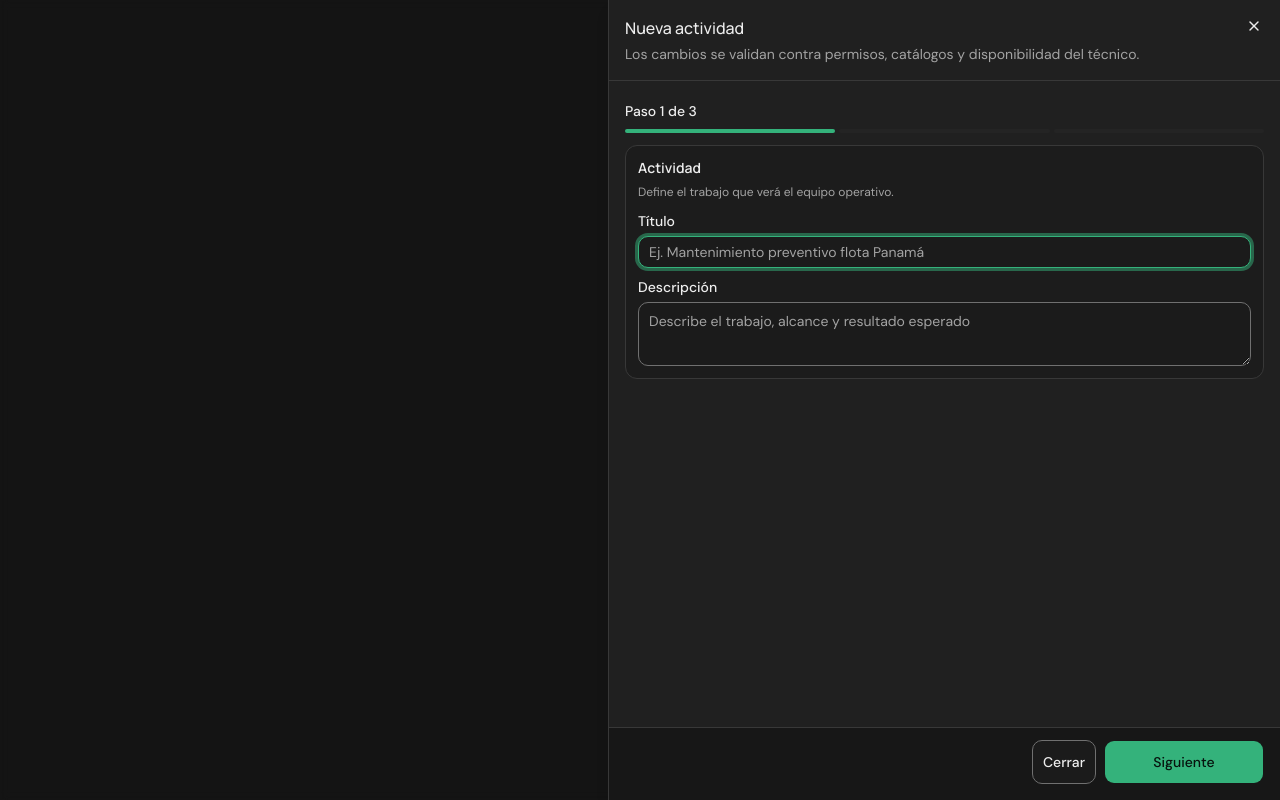
Test: ActivityFormPanel ShadCN controls › keeps the user on the current step and explains missing required fields
Click the button "Siguiente": (1184, 762) [1104, 740, 1264, 784]
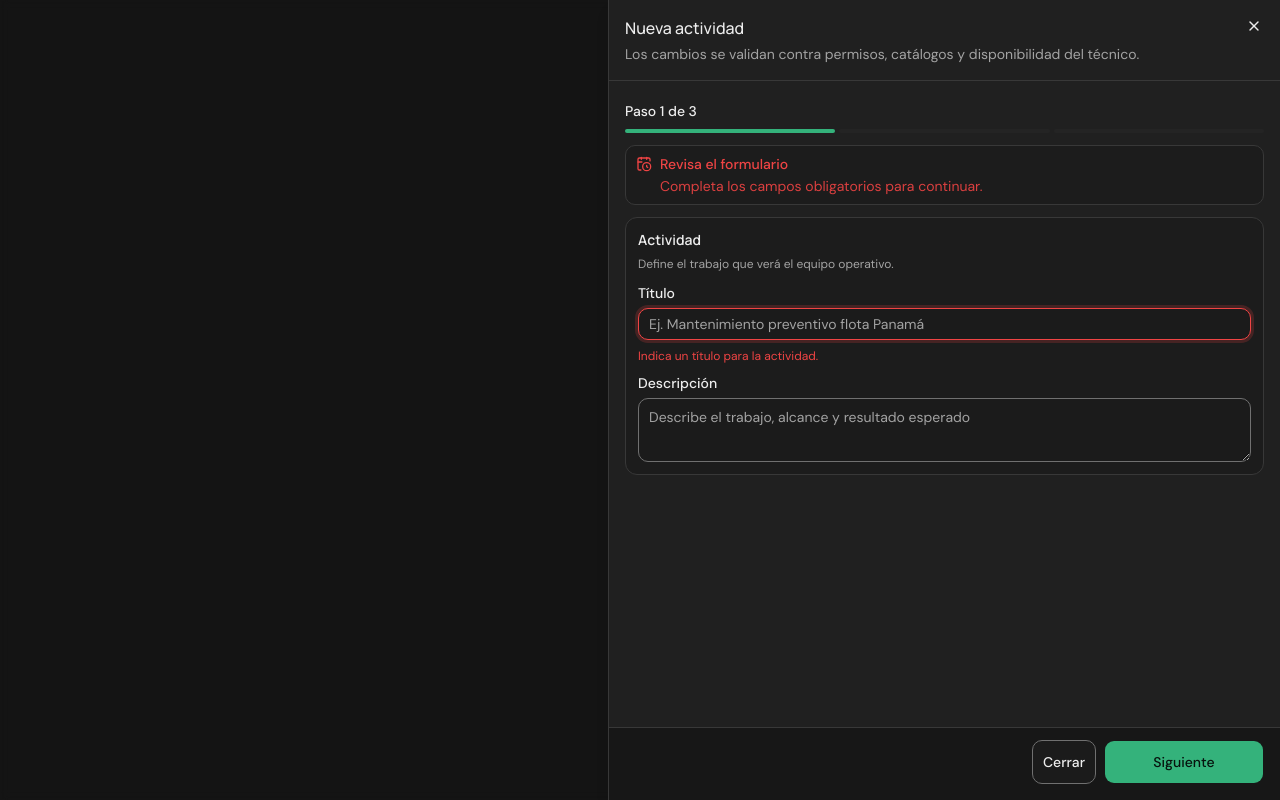
expect the text "Paso 1 de 3" is shown: met, box [625, 102, 697, 120]
expect the text "Indica un título para la actividad." is shown: met, box [638, 348, 818, 364]
